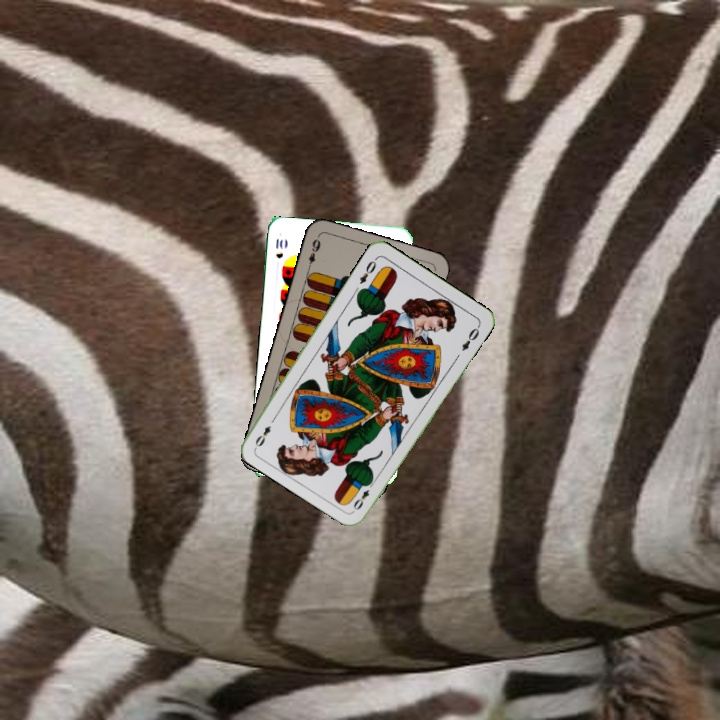E9: (304, 235, 323, 273)
EO: (349, 477, 377, 513), (355, 254, 379, 287)
S10: (272, 234, 285, 261)
